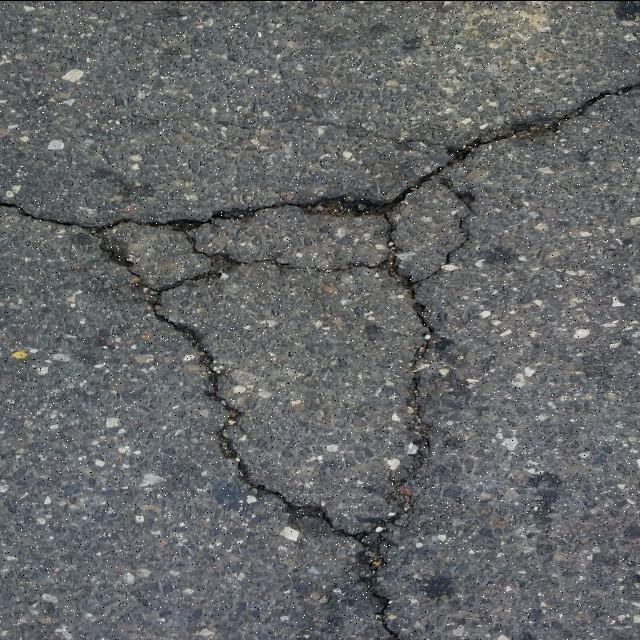Crack: (0, 79, 640, 640), (163, 264, 428, 533), (202, 54, 438, 147)
